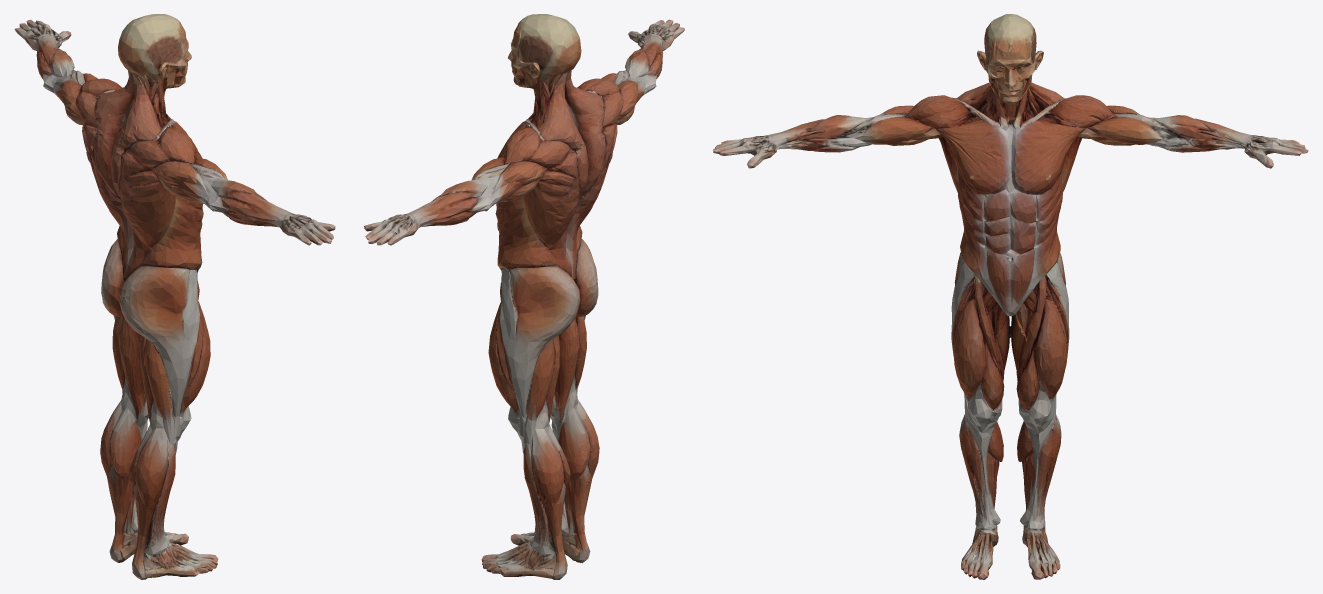
Rendered from avatar.glb.
The picture shows the model from 3 angles, left to right: view 1: azimuth 30°, elevation 25°; view 2: azimuth 150°, elevation 25°; view 3: azimuth 270°, elevation 25°; orthographic projection.
Parts seen in each view (by area): view 1: BODY_BASE, PANTURRILHA, SUBESCAPULAR, TRICEPS, COXA, AXILAR_MEDIA, BICEPS; view 2: BODY_BASE, PANTURRILHA, TRICEPS, SUBESCAPULAR; view 3: BODY_BASE, ABDOMINAL, COXA, PEITORAL, BICEPS.
Boxes of the visible parts, box(x1,y1,x2,y2) form: BODY_BASE: box(14, 14, 335, 579); PANTURRILHA: box(128, 425, 170, 510); SUBESCAPULAR: box(119, 149, 160, 213); TRICEPS: box(150, 161, 218, 209); COXA: box(175, 282, 210, 435); AXILAR_MEDIA: box(169, 196, 196, 236); BICEPS: box(189, 157, 227, 179); BODY_BASE: box(364, 14, 684, 579); PANTURRILHA: box(558, 399, 599, 477); TRICEPS: box(615, 75, 655, 124); SUBESCAPULAR: box(594, 123, 617, 190); BODY_BASE: box(713, 14, 1308, 579); ABDOMINAL: box(982, 189, 1038, 313); COXA: box(952, 275, 1008, 415); PEITORAL: box(935, 110, 1009, 194); BICEPS: box(842, 112, 943, 144).
Bounding box in the file's own units: 0.1839 × 0.9789 × 0.9783.
1 material, 1 textured.
